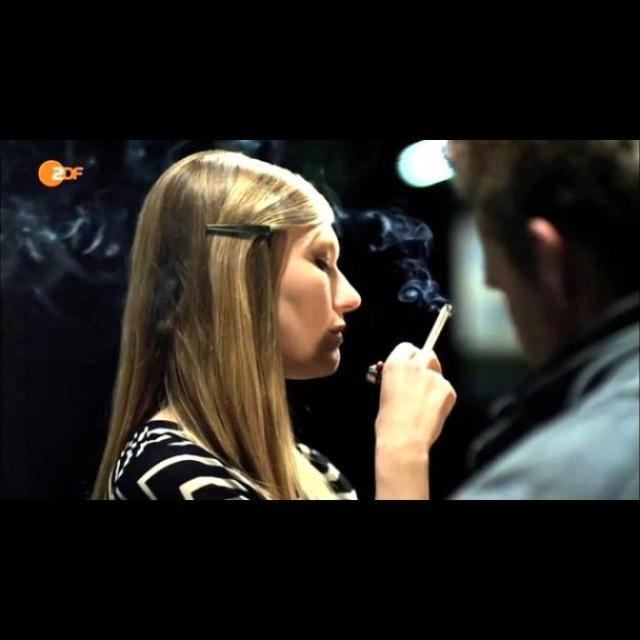rokok: (415, 292, 455, 362)
